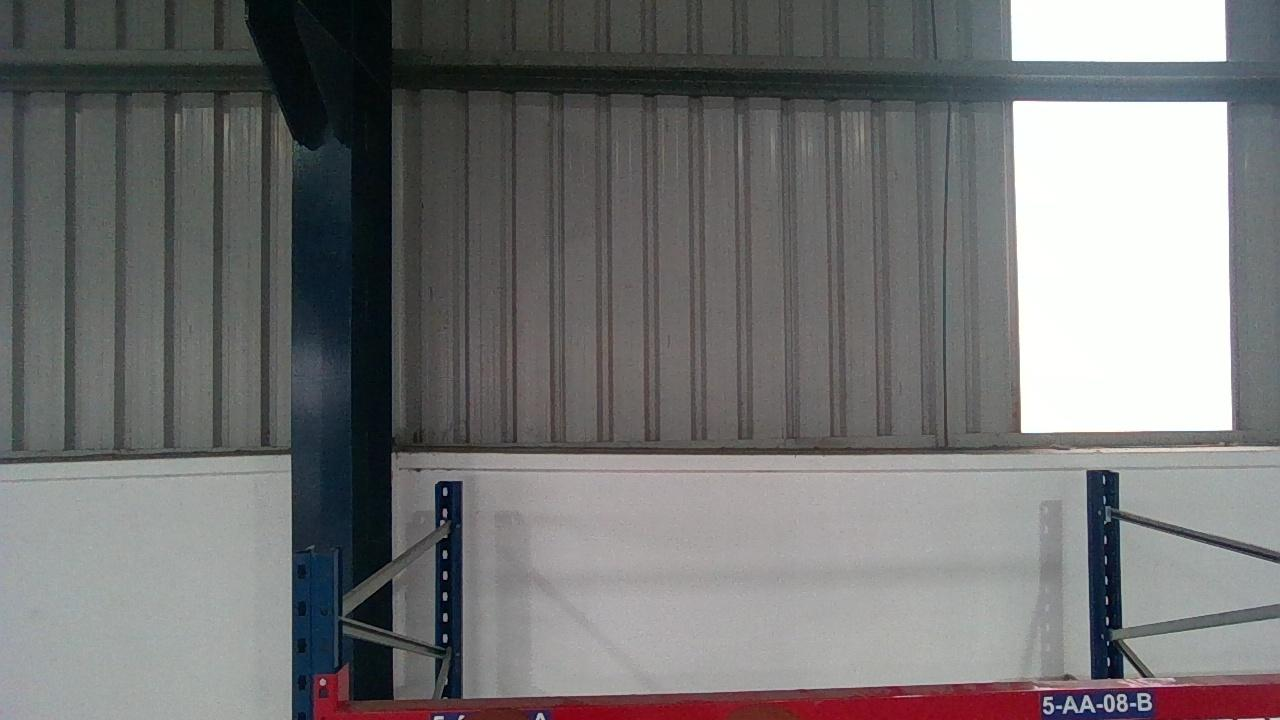h_rack: (351, 669, 1278, 719)
